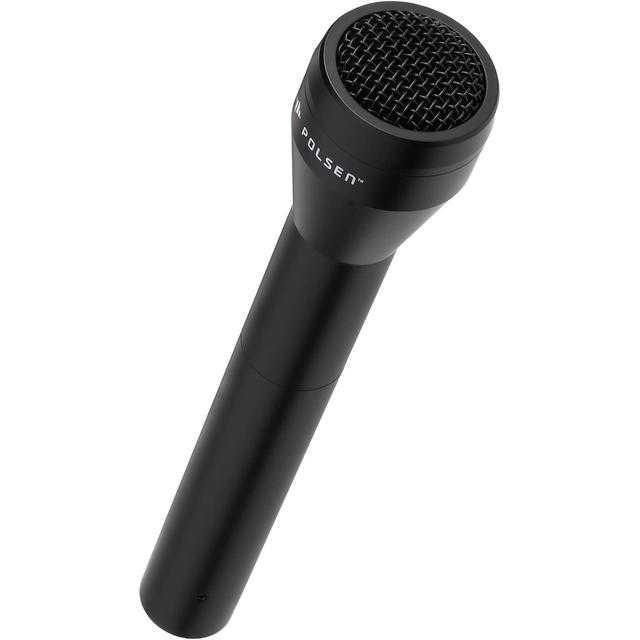microphone: (138, 7, 498, 634)
